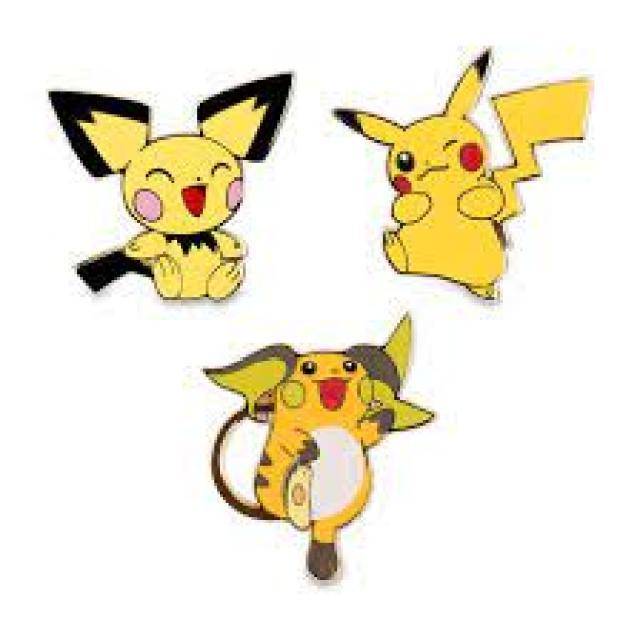pichu: (50, 73, 302, 309)
